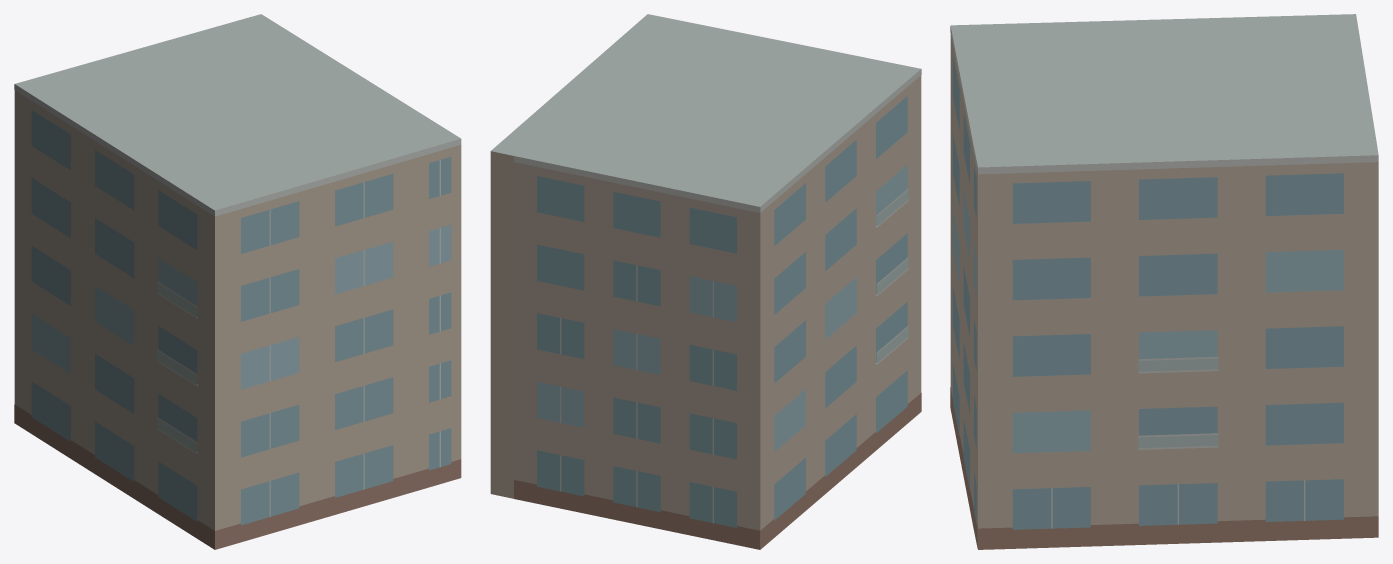
The model's file is survey-upis-32885105.glb.
3 views of the same model, side by side, from view 1: azimuth 30°, elevation 25°; view 2: azimuth 150°, elevation 25°; view 3: azimuth 270°, elevation 25° (orthographic). The views are drawn at different scales.
Visible parts, largest first — view 1: survey-upis-32885105.tmp; view 2: survey-upis-32885105.tmp; view 3: survey-upis-32885105.tmp.
Part boxes in pixels (left/top/right/bottom): survey-upis-32885105.tmp: left=14, top=14, right=461, bottom=549; survey-upis-32885105.tmp: left=490, top=14, right=921, bottom=549; survey-upis-32885105.tmp: left=950, top=14, right=1378, bottom=549.
Size of the model in its own units: 11.8 by 13.7 by 13.91.
